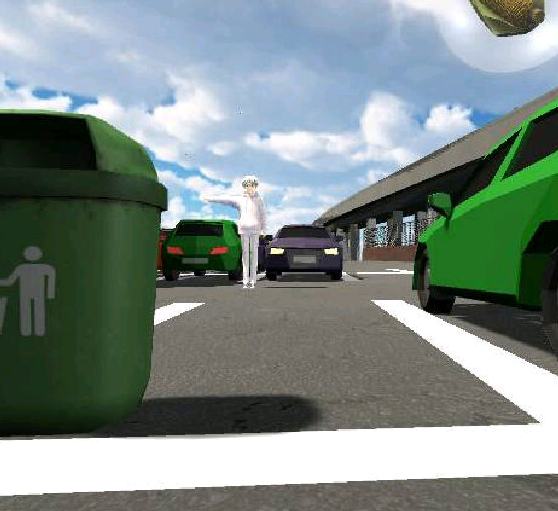singleP_left: (203, 174, 269, 289)
